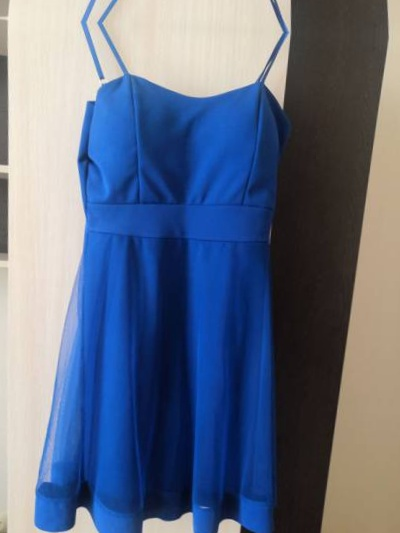Dress: (20, 54, 342, 533), (48, 0, 370, 1)
